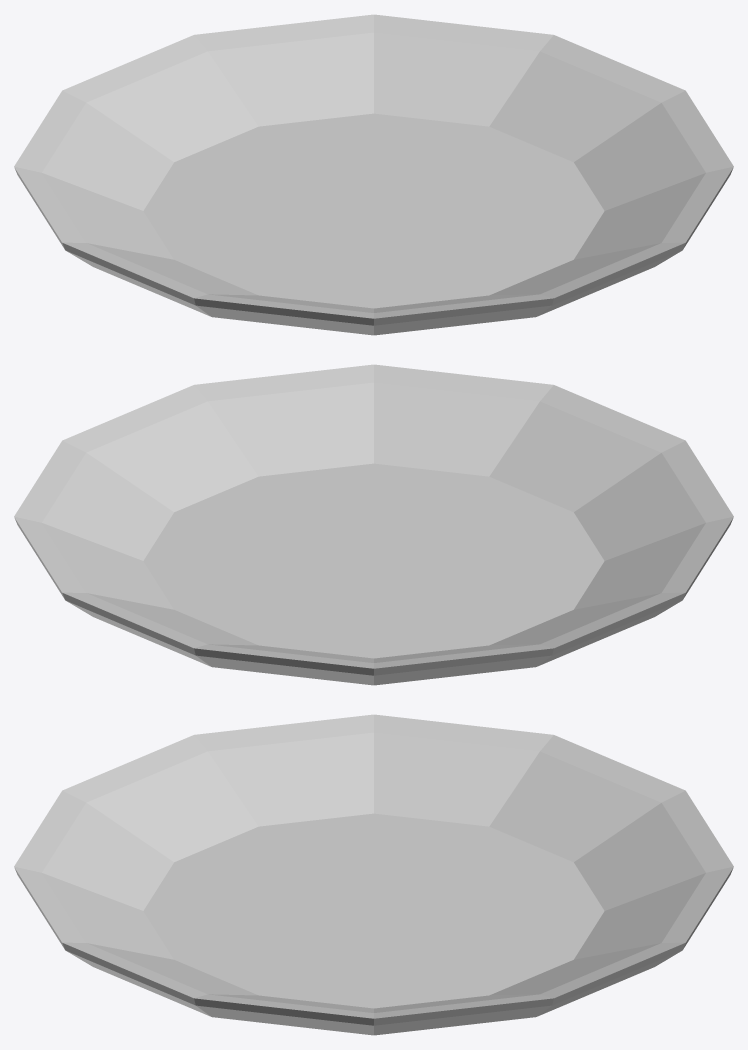
The model's file is tray_small.obj.
3 renders of one model, top to bottom at view 1: azimuth 30°, elevation 25°; view 2: azimuth 150°, elevation 25°; view 3: azimuth 270°, elevation 25°, orthographic.
Parts seen in each view (by area): view 1: tray_small; view 2: tray_small; view 3: tray_small.
Boxes of the visible parts, box(x1,y1,x2,y2) form: tray_small: box(14, 14, 733, 335); tray_small: box(14, 364, 733, 685); tray_small: box(14, 714, 733, 1035).
Size of the model in its own units: 0.3558 by 0.0355 by 0.3558.
